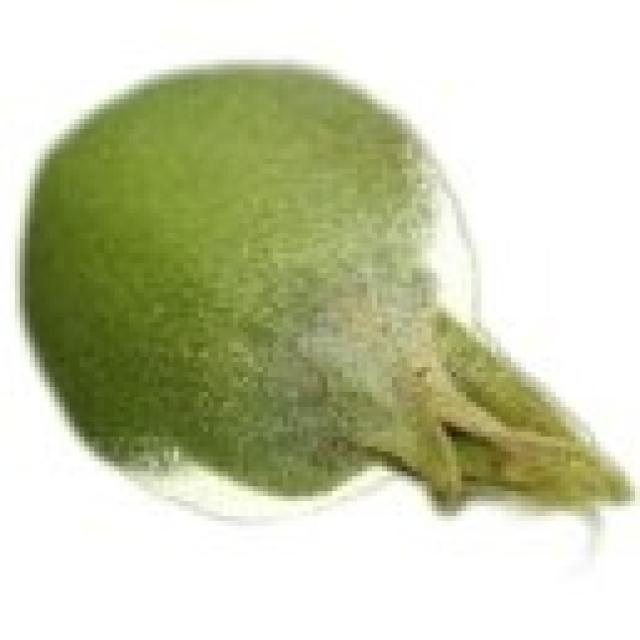20-_ripeness: (15, 59, 633, 577)
